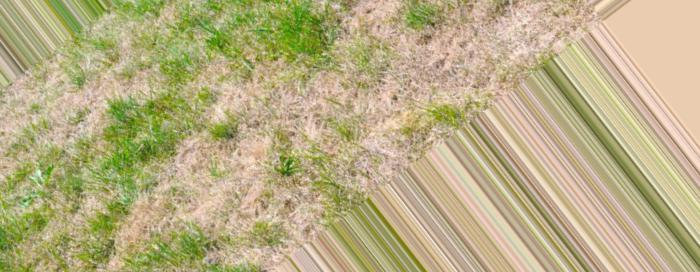patch: (170, 146, 269, 228), (291, 74, 400, 136), (416, 31, 514, 92), (38, 76, 142, 116)
